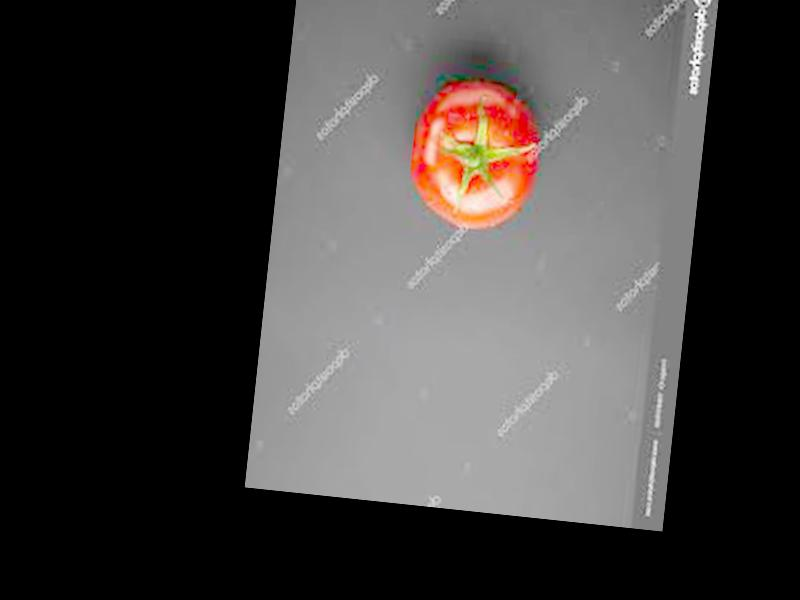Tomato: (402, 76, 546, 237)
